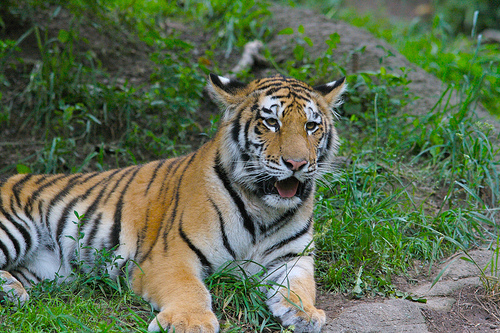Tigre: (6, 74, 365, 307)
